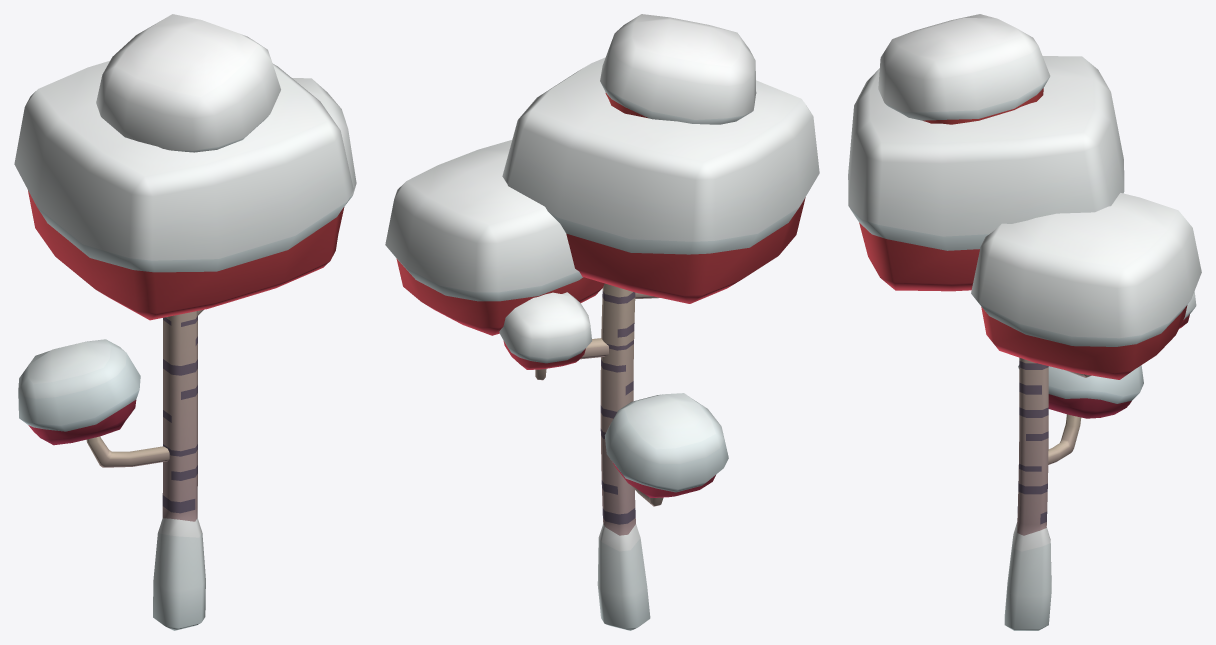
File: birch_tree_SC_03_snow.fbx
The picture shows the model from 3 angles, left to right: view 1: azimuth 30°, elevation 25°; view 2: azimuth 150°, elevation 25°; view 3: azimuth 270°, elevation 25°; orthographic projection. The views are drawn at different scales.
Parts seen in each view (by area): view 1: birch_tree_SC_03_snow; view 2: birch_tree_SC_03_snow; view 3: birch_tree_SC_03_snow.
Boxes of the visible parts, box(x1,y1,x2,y2) form: birch_tree_SC_03_snow: box(14, 14, 356, 630); birch_tree_SC_03_snow: box(385, 14, 819, 630); birch_tree_SC_03_snow: box(848, 14, 1201, 630).
Size of the model in its own units: 561 by 957 by 520.
Materials: 1 (1 with a texture image).
